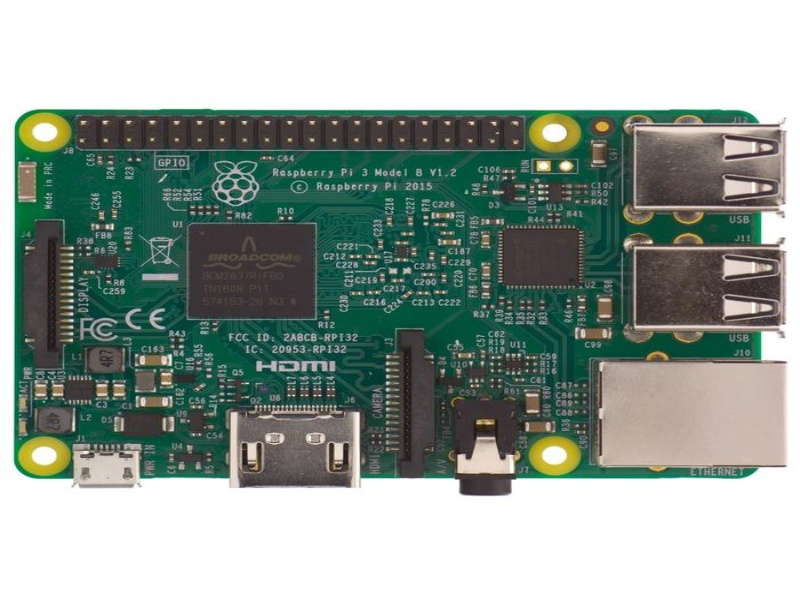raspberrypi: (9, 95, 794, 485)
